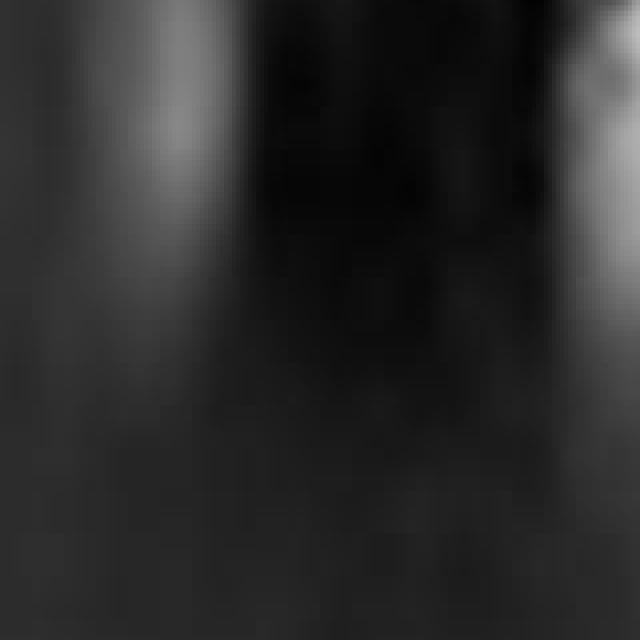person: (101, 1, 253, 332)
